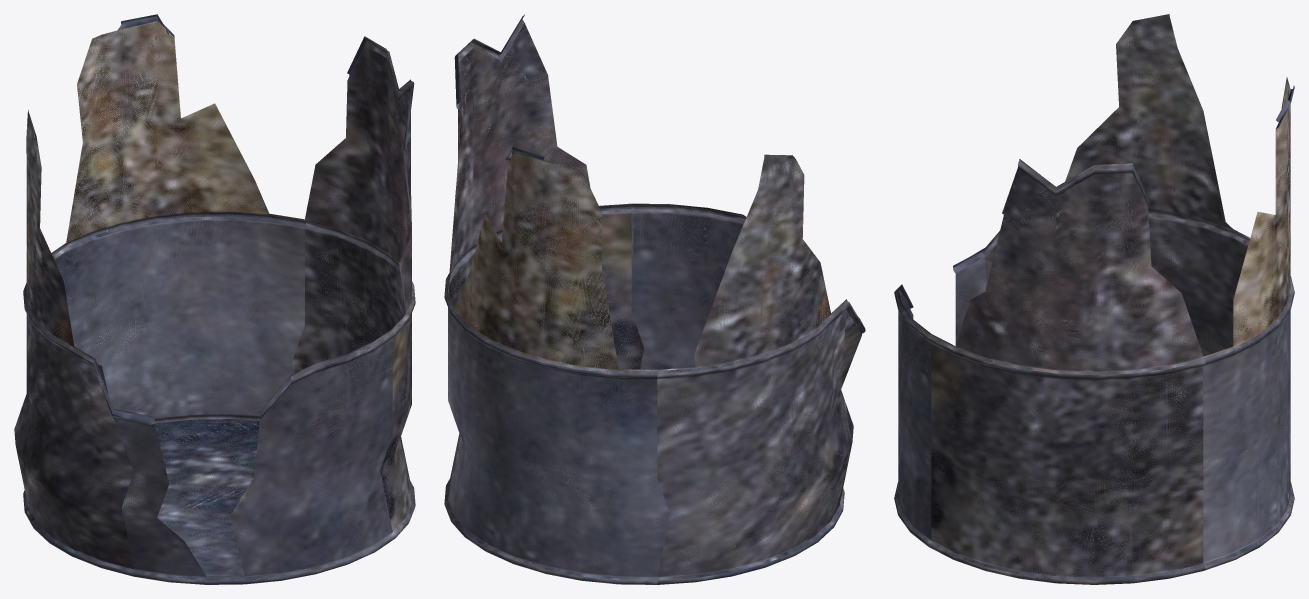
File: destroybarril.fbx
The picture shows the model from 3 angles, left to right: view 1: azimuth 30°, elevation 25°; view 2: azimuth 150°, elevation 25°; view 3: azimuth 270°, elevation 25°; orthographic projection.
Parts seen in each view (by area): view 1: Cylinder_001; view 2: Cylinder_001; view 3: Cylinder_001.
Boxes of the visible parts, x1,y1,x2,y2 form: Cylinder_001: (14, 14, 415, 584); Cylinder_001: (444, 14, 865, 584); Cylinder_001: (894, 14, 1294, 584).
Size of the model in its own units: 2.09 by 2.36 by 2.04.
